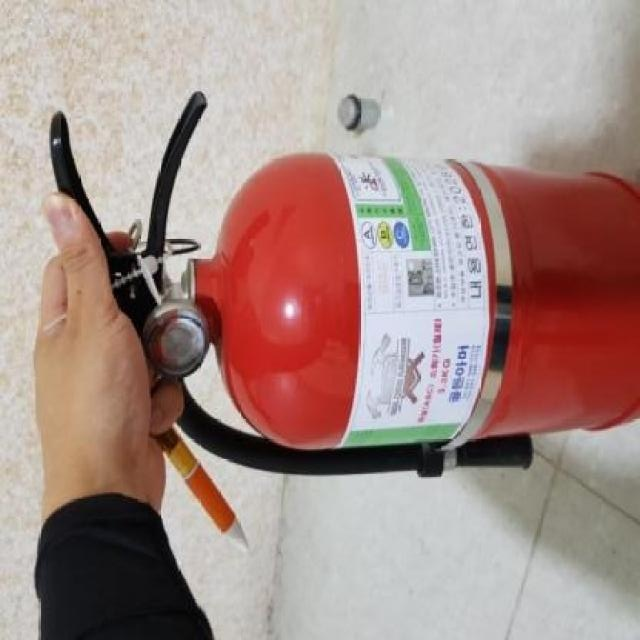fire extinguisher: (47, 90, 640, 479)
